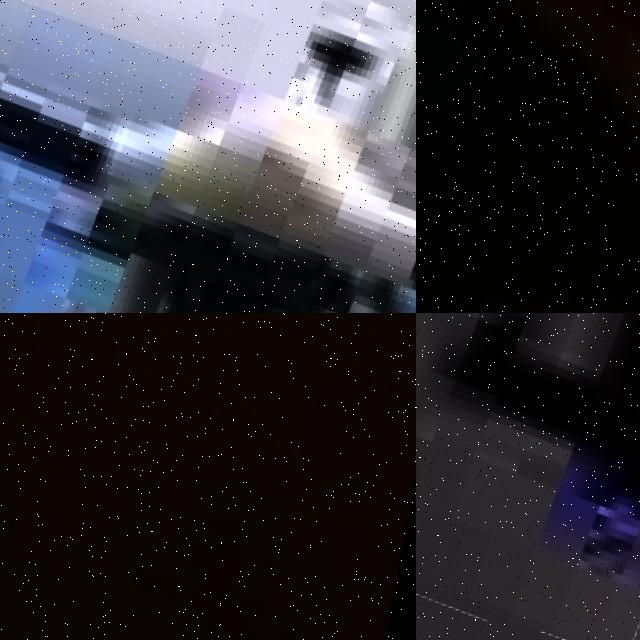drone: (0, 0, 416, 313), (416, 313, 640, 640)
